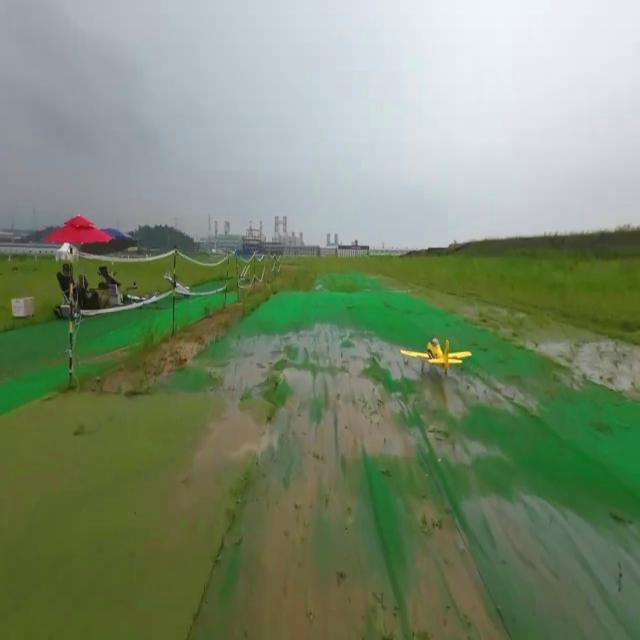iha: (429, 334, 442, 378)
